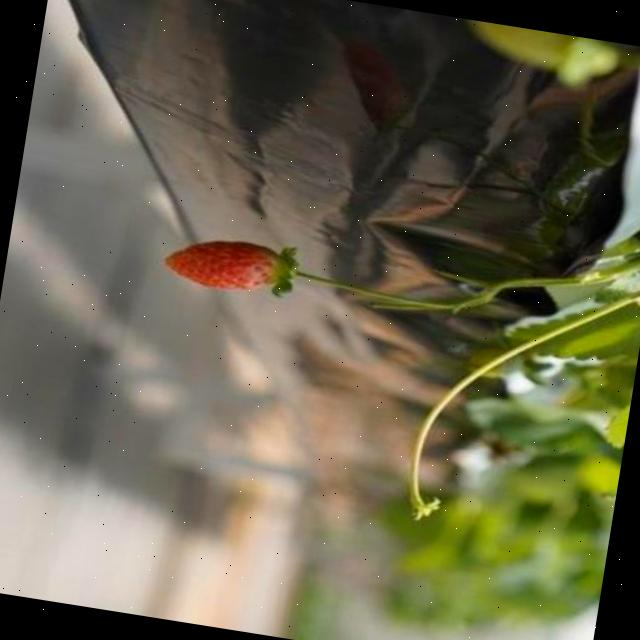strawberry: (164, 231, 282, 298)
